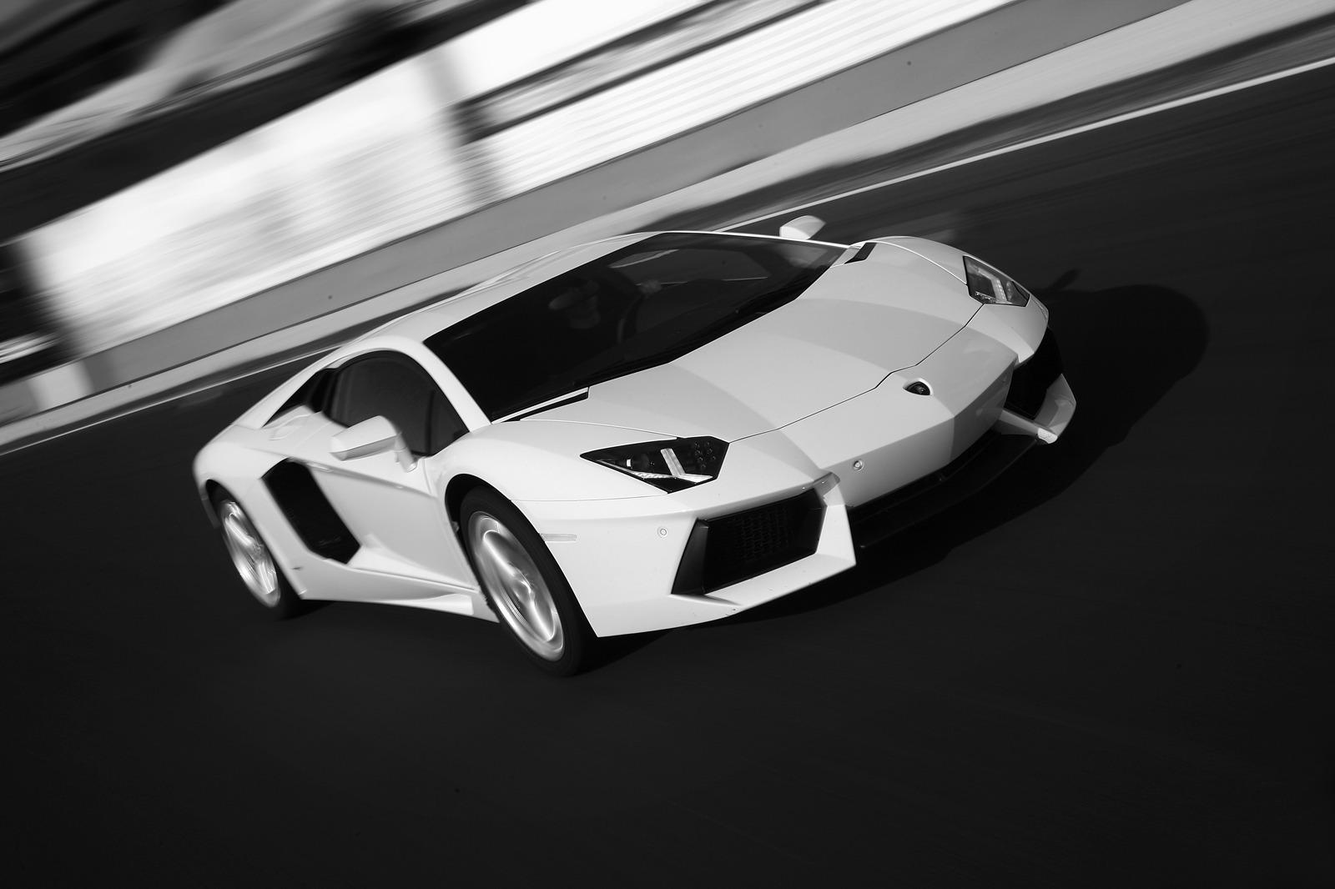car: (207, 213, 1077, 671)
